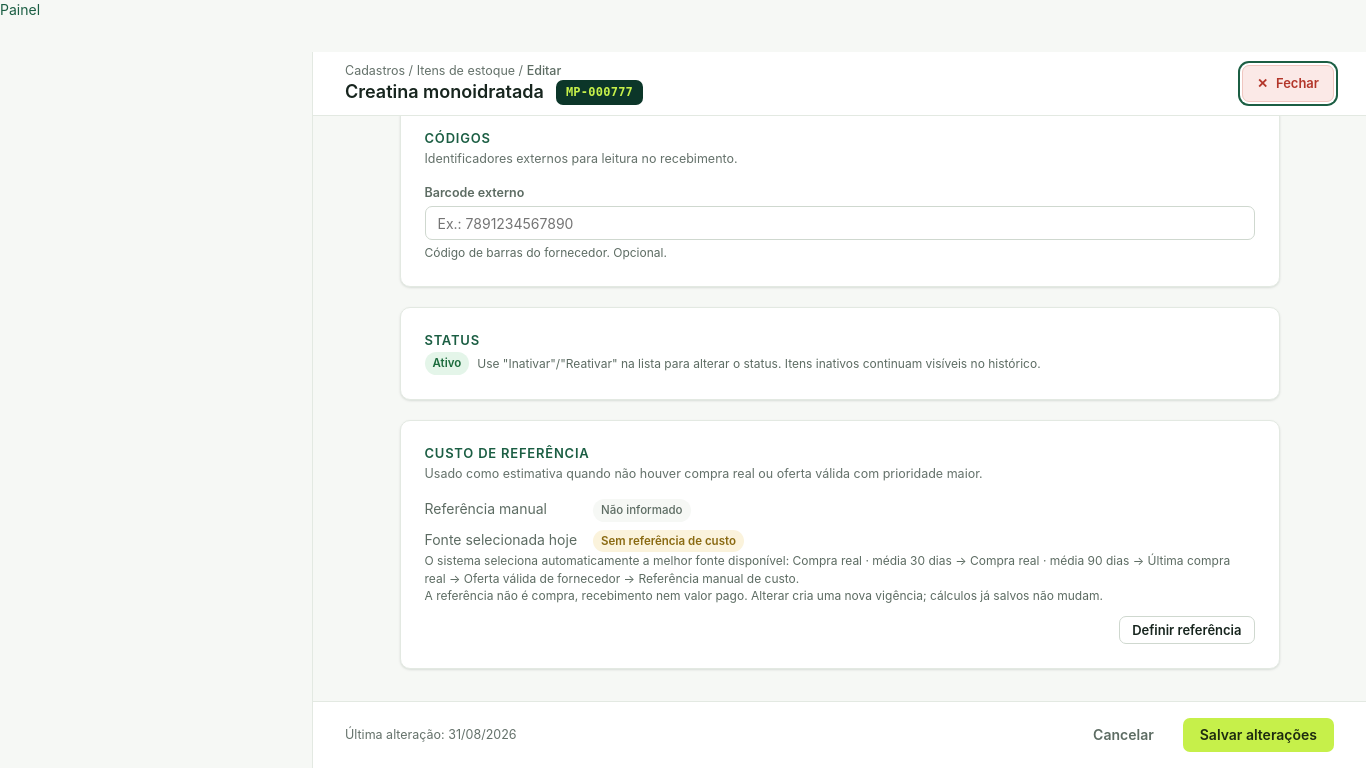
Item — custo de referência é pendência própria › custo digitado pergunta, mesmo sem tocar nos campos do item
(page scrolled)
Expected: the heading "Creatina monoidratada" is shown, [345, 81, 544, 104]
Click the button "Definir referência" at (1187, 630), box [1119, 616, 1254, 644]
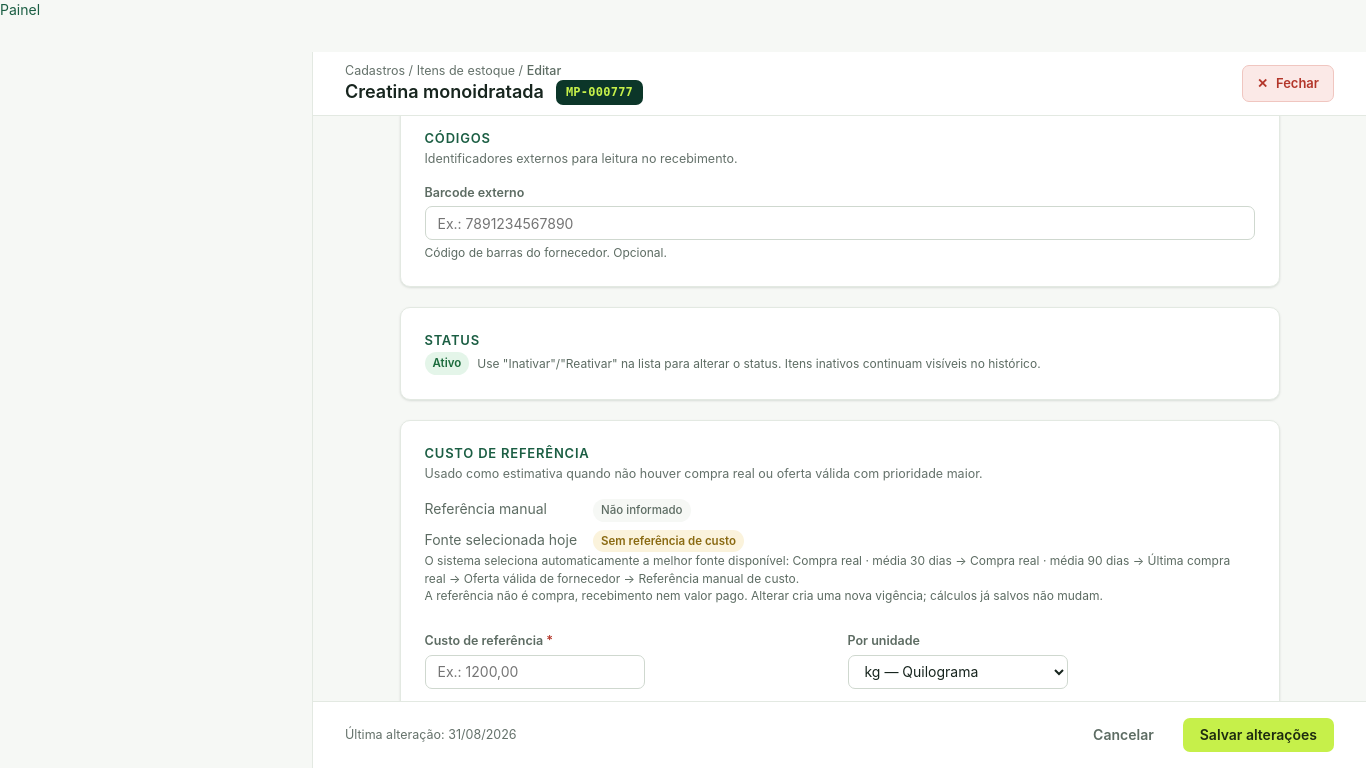
Type "1200" into the field with id "cost-reference-value" at (534, 672), box [424, 654, 644, 688]
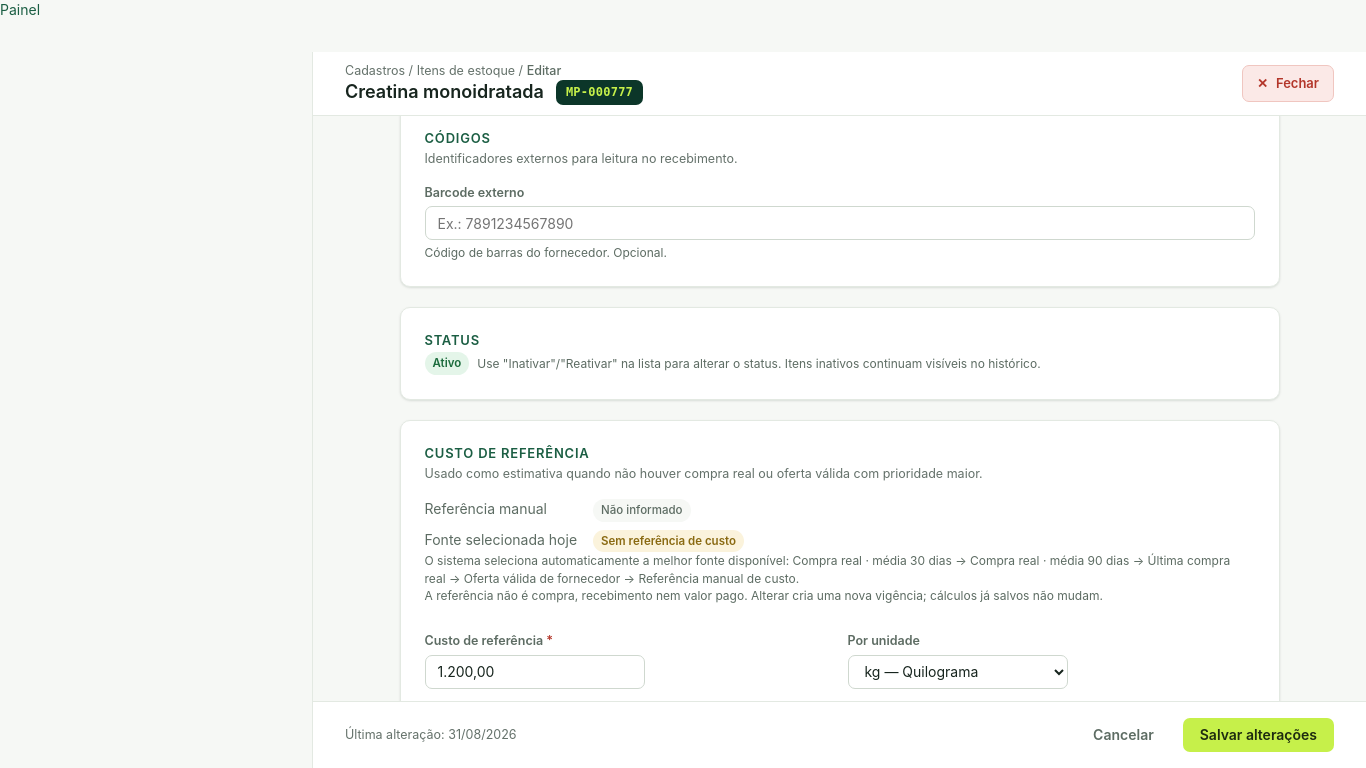
Click the link "Painel" at (20, 10), box [0, 1, 40, 18]
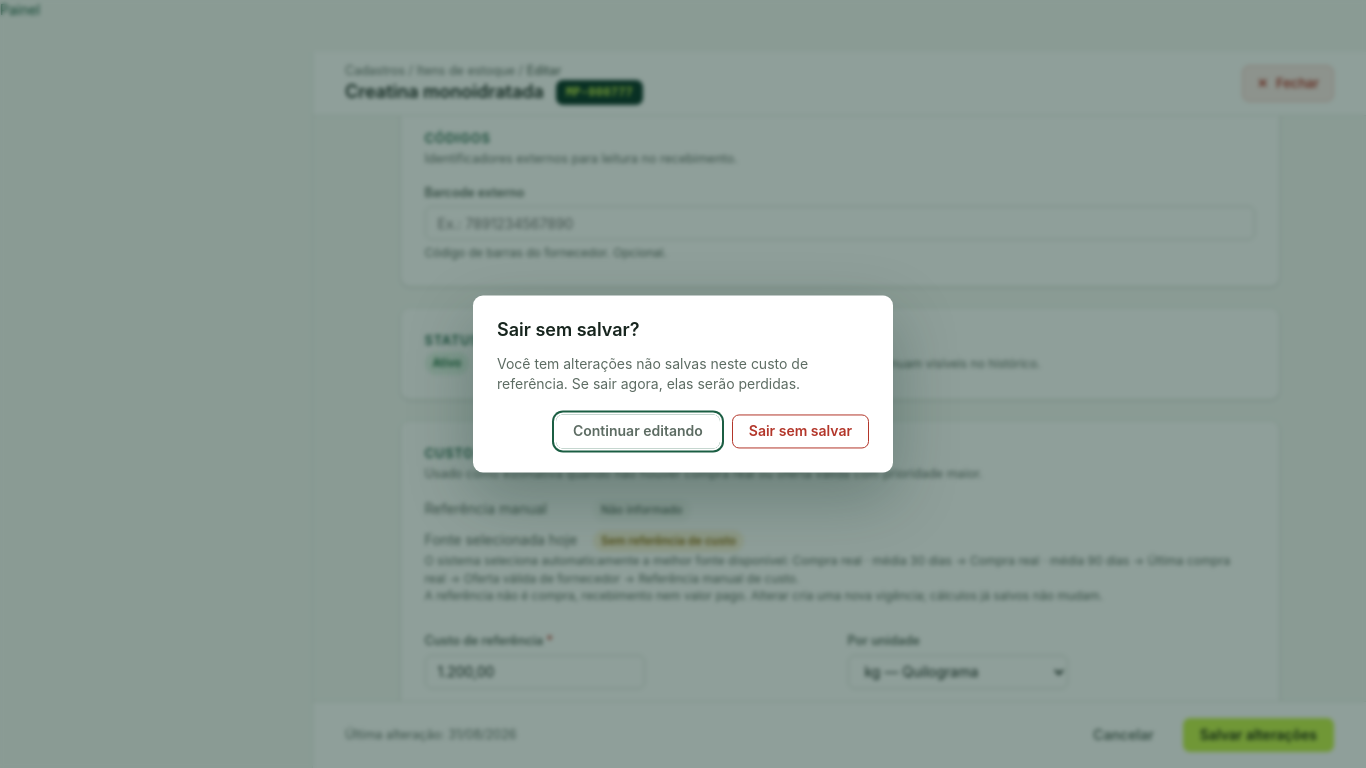
Now the heading "Sair sem salvar?" is shown, box [497, 320, 640, 340]
